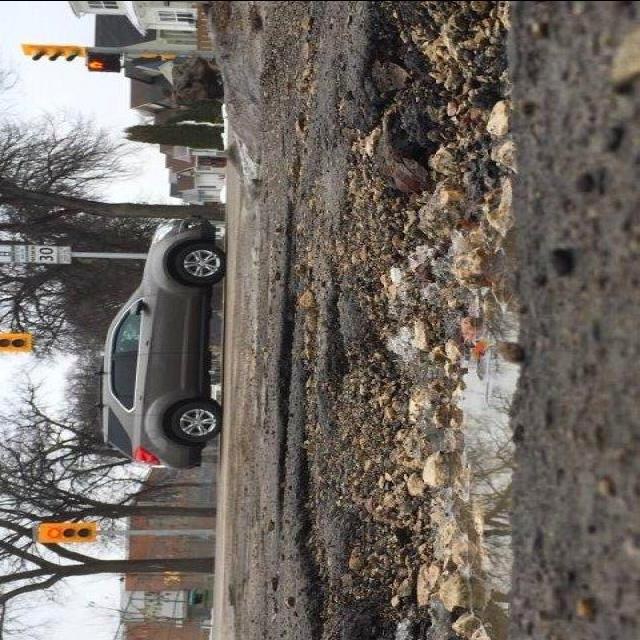lubang: (271, 19, 528, 625)
